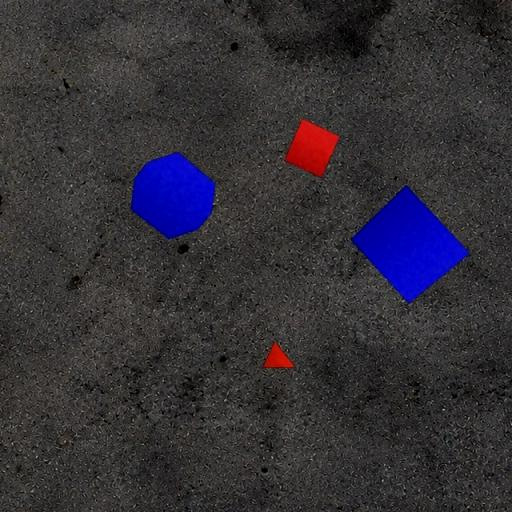BLUE_SQUARE: (350, 185, 471, 304)
RED_SQUARE: (284, 118, 340, 178)
